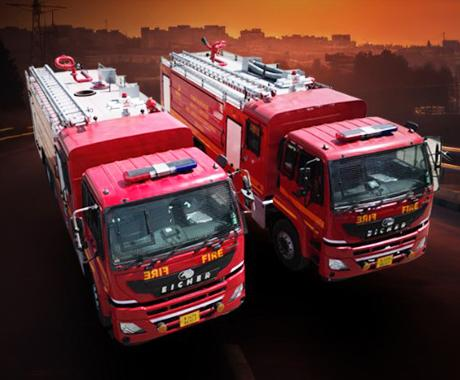Fire-engine: (159, 47, 445, 290), (19, 70, 251, 353)
